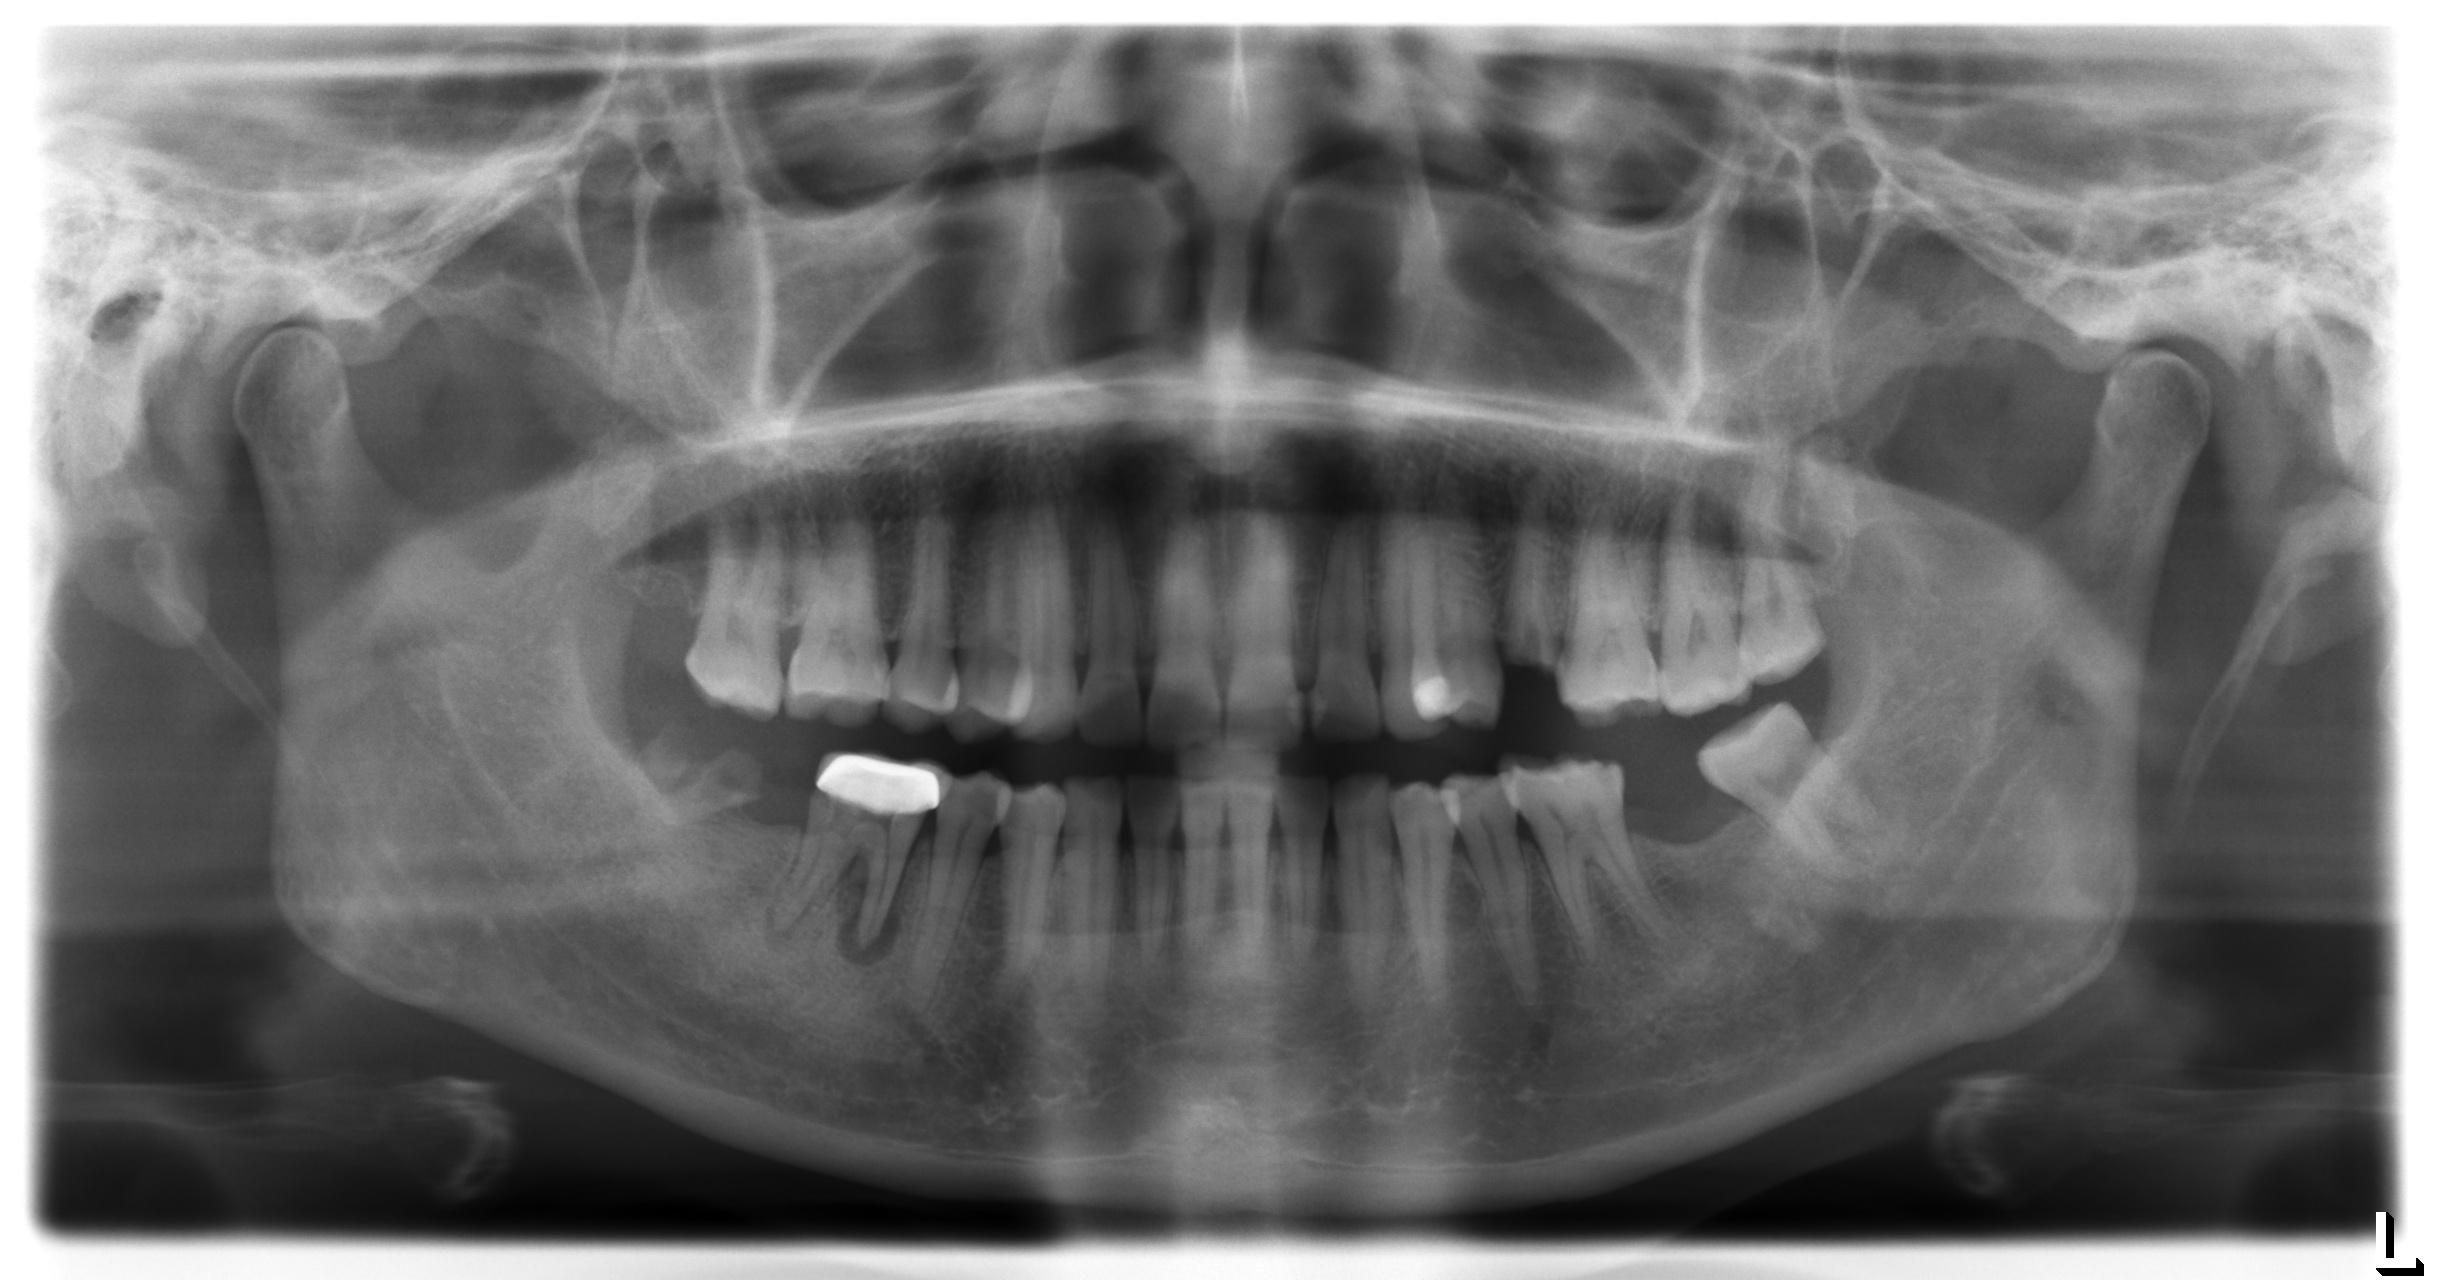Decay: (620, 718, 762, 833), (1502, 505, 1564, 668)
